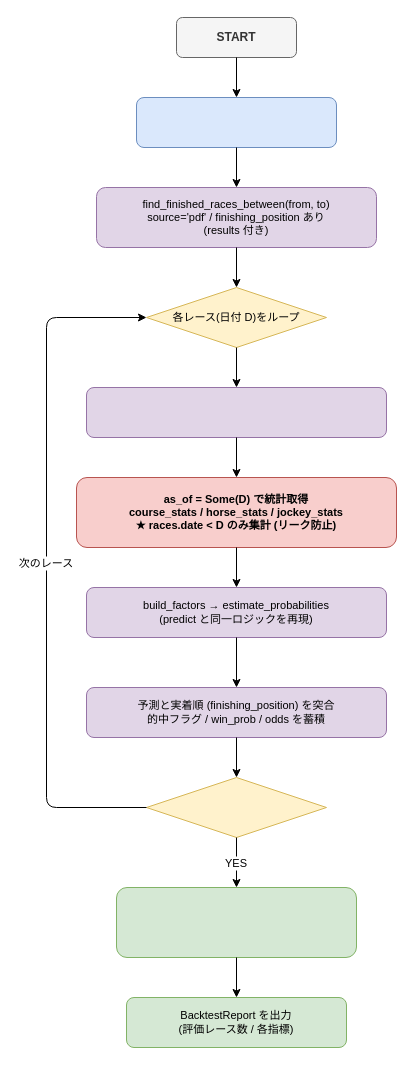
This 414x1065 diagram has some shape labels left out. Each missing label, with the centre of its shape:
"results から HorseEntry 復元 (gate_num / horse_num / horse_name / jockey)" goes at point (236, 412).
"入力 期間 from / to (NaiveDate)" goes at point (236, 122).
"全レース完了？" goes at point (236, 807).
"指標集計 的中率(単勝/連対/複勝) / 想定回収率 Brier / LogLoss" goes at point (236, 922).
